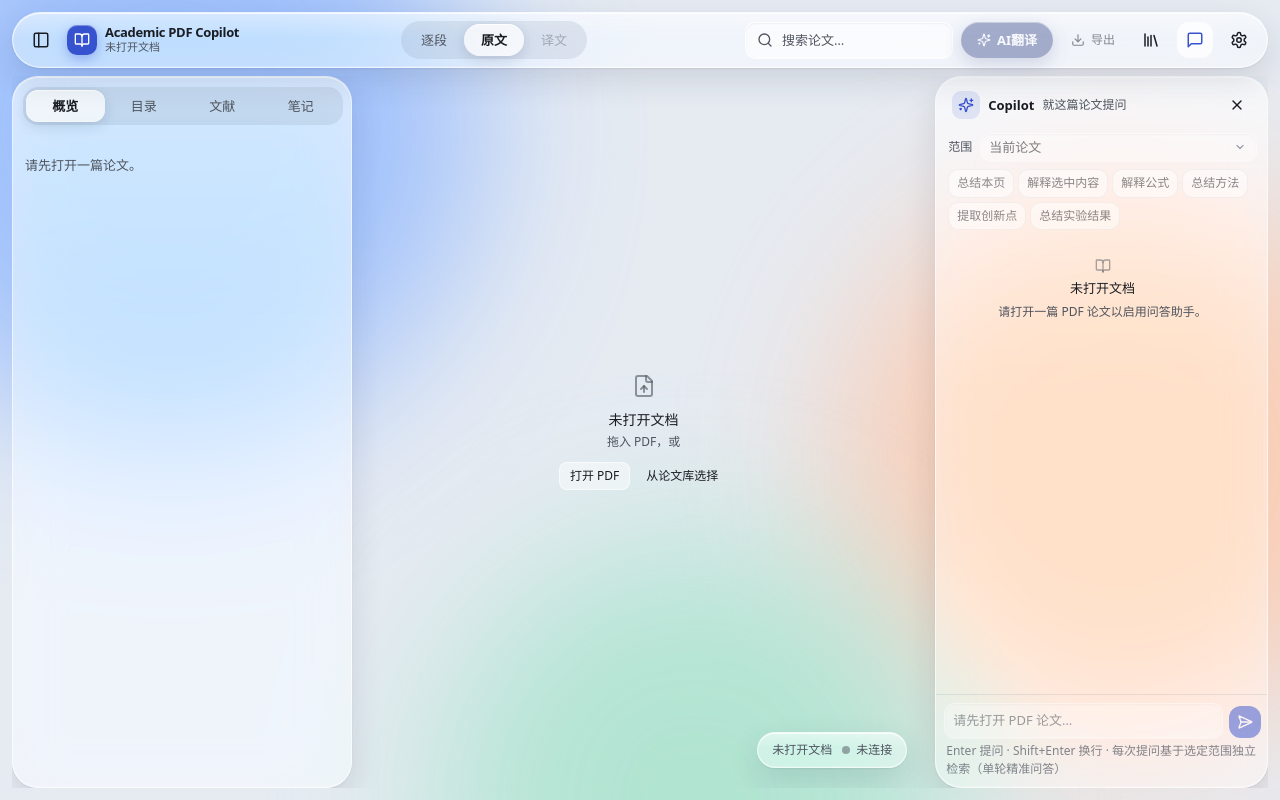
it: DS-FE-004 · the screen itself › has an empty state with a way out of it (AC-P0-04)
This screenshot has width=1280, height=800.
Click the button with test id "settings-open". click: (1239, 40)
box: [1221,22,1257,58]
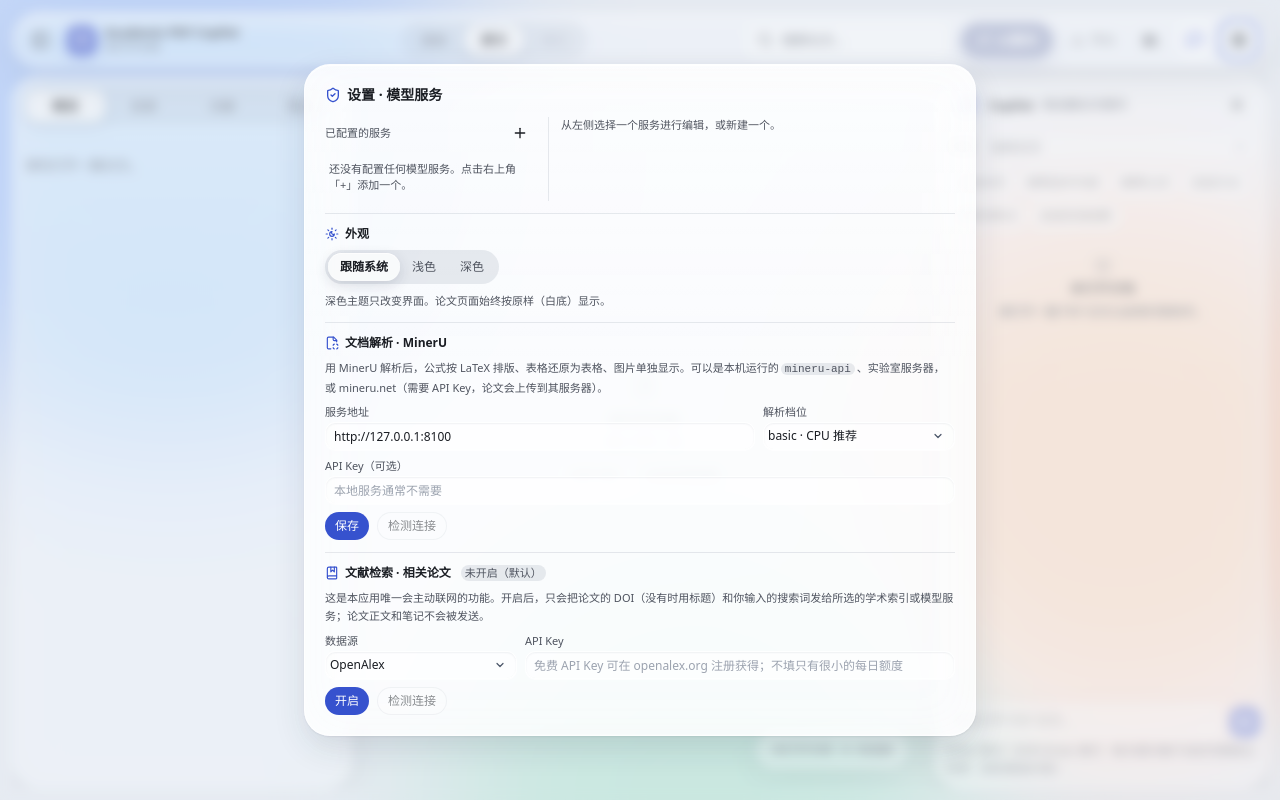
Result: the text "还没有配置任何模型服务。点击右上角「+」添加一个。" is shown at [325,153,536,201]
Result: the button with test id "settings-new" is shown at [504,117,536,149]
